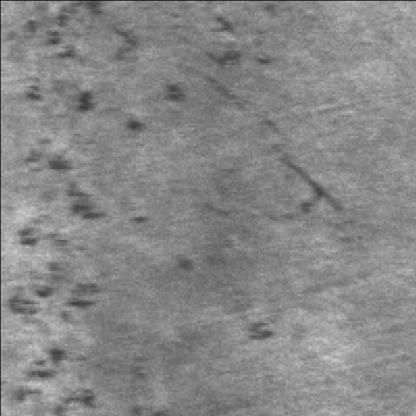rolled-in_scale: (2, 0, 110, 408), (100, 10, 270, 129)
